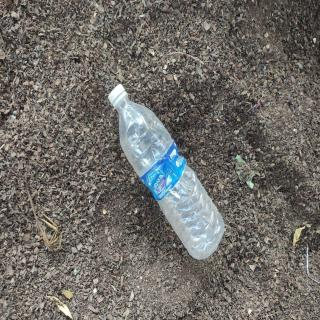Plastic-bottle: (108, 79, 228, 265)
